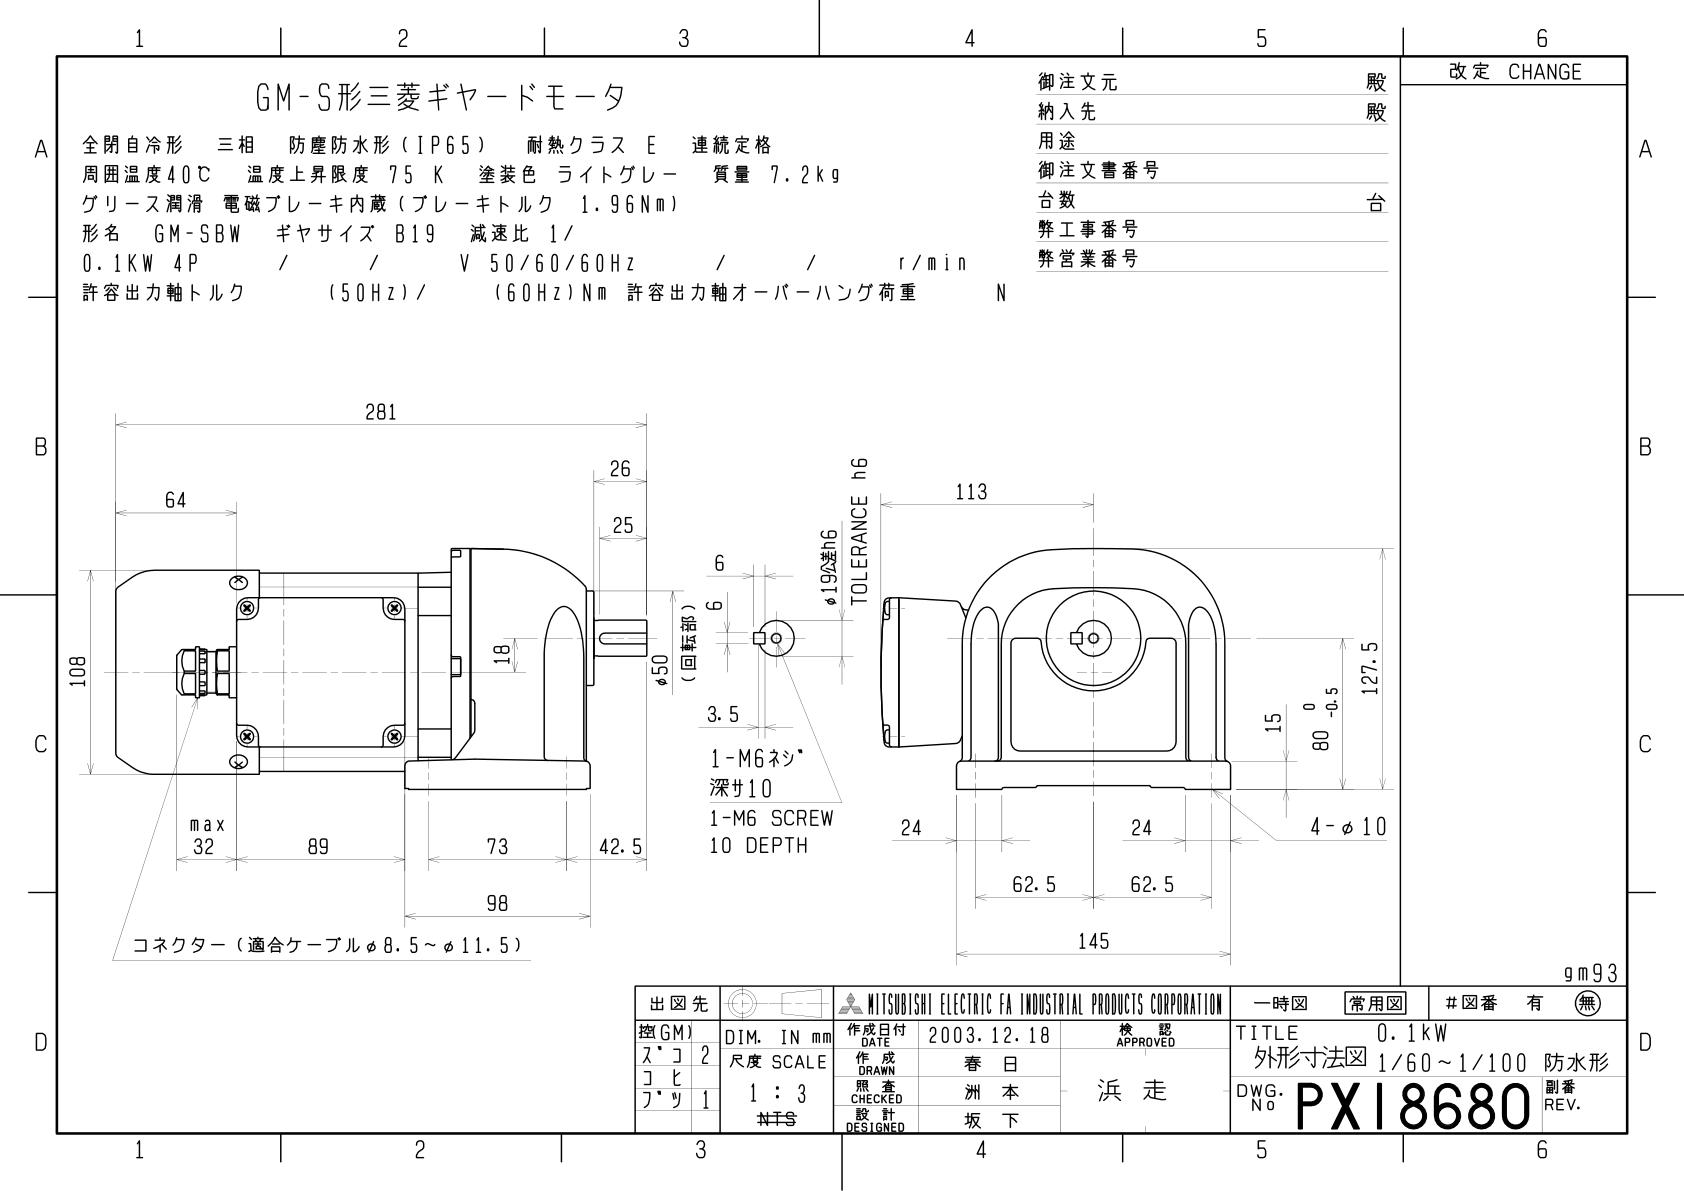GM_S_IP65＿三相_脚: (6, 3, 1674, 1179)
